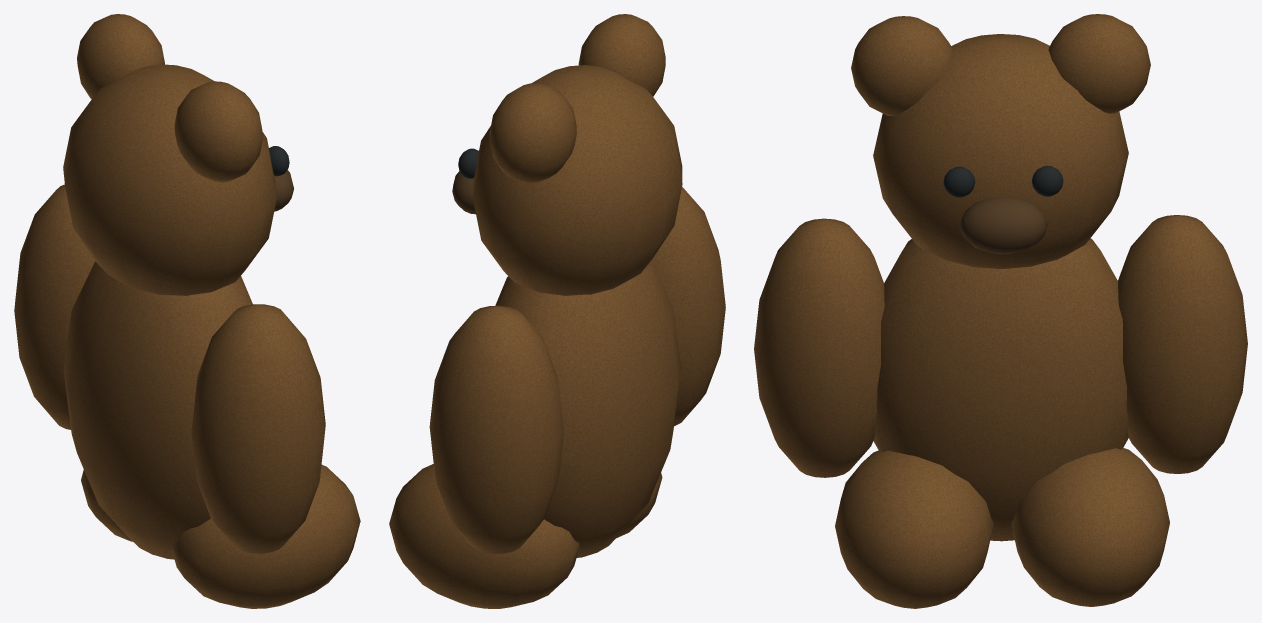
Rendered from SM_TeddyPrize_6c7a6ae8ae.fbx.
3 views of the same model, side by side, from view 1: azimuth 30°, elevation 25°; view 2: azimuth 150°, elevation 25°; view 3: azimuth 270°, elevation 25° (orthographic). The views are drawn at different scales.
Visible parts, largest first — view 1: SM_TeddyPrize_6c7a6ae8ae; view 2: SM_TeddyPrize_6c7a6ae8ae; view 3: SM_TeddyPrize_6c7a6ae8ae.
Part boxes in pixels (x1,y1,x2,y2): SM_TeddyPrize_6c7a6ae8ae: (14, 14, 360, 608); SM_TeddyPrize_6c7a6ae8ae: (389, 14, 725, 608); SM_TeddyPrize_6c7a6ae8ae: (754, 14, 1247, 608).
Size of what is drawn, in the model's own units: 32.55 by 58.34 by 71.9.
Materials: 3 (1 with a texture image).
